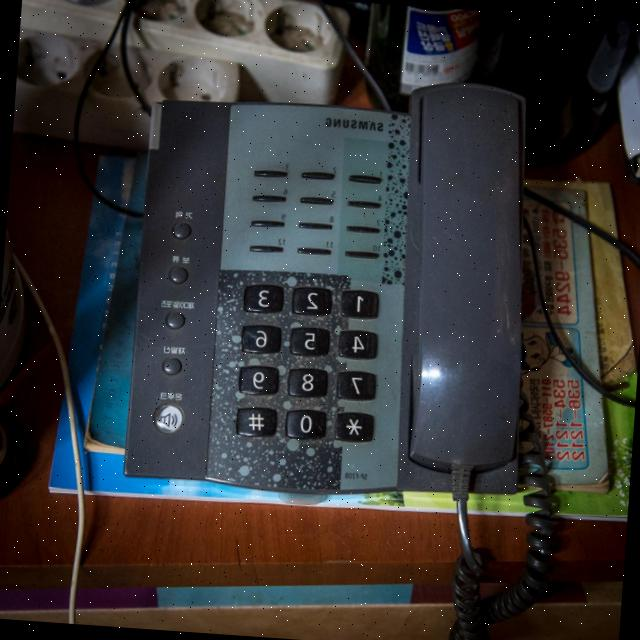Phone: (114, 59, 587, 640)
